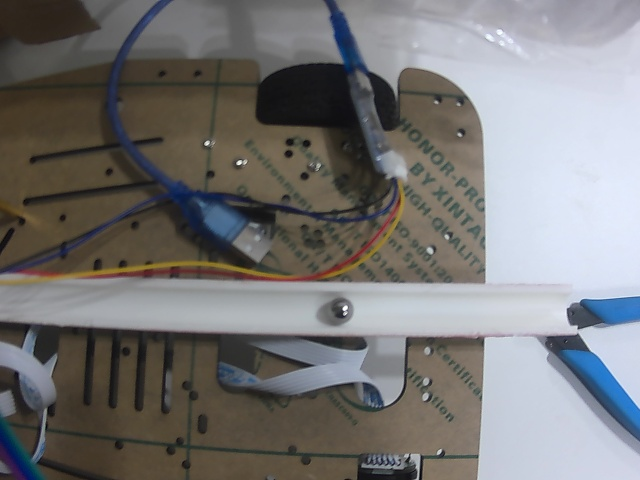steelball: (329, 298, 354, 322)
